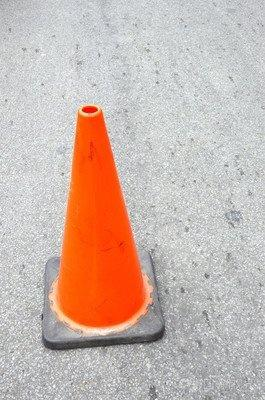cone_barrel: (49, 101, 151, 328)
